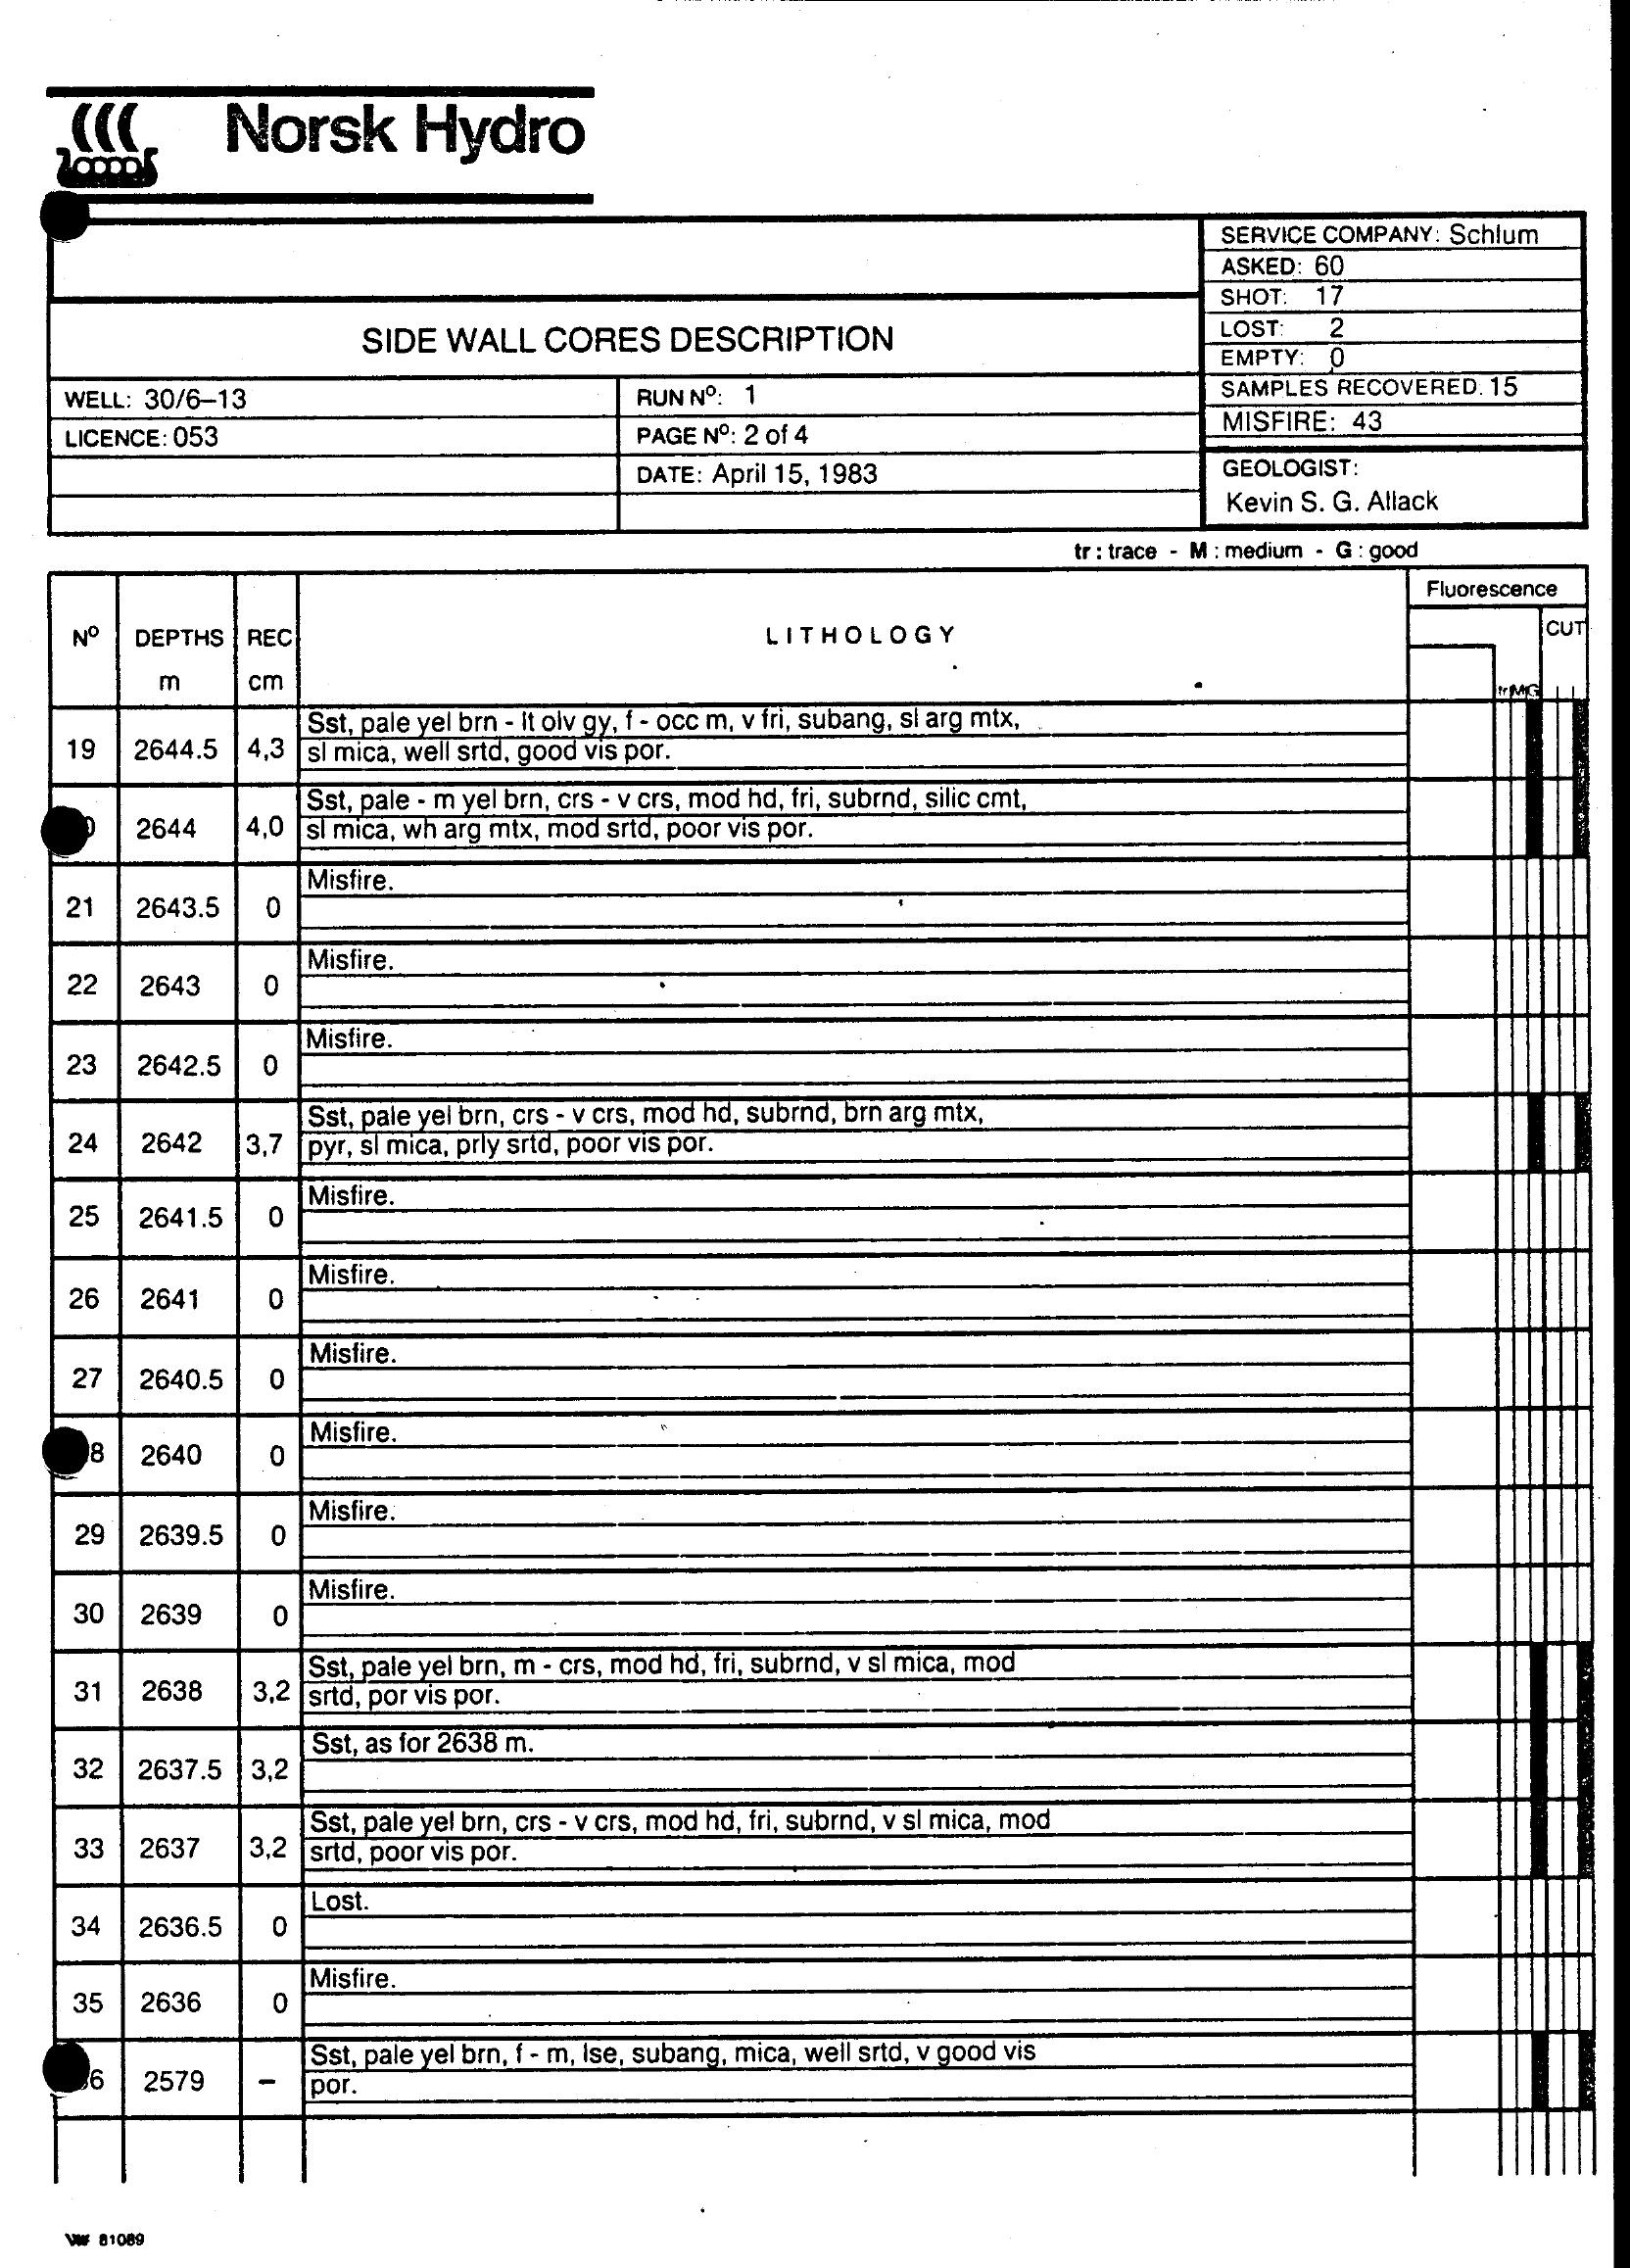table: (25, 551, 1618, 2180)
undefined: (30, 69, 604, 215)
